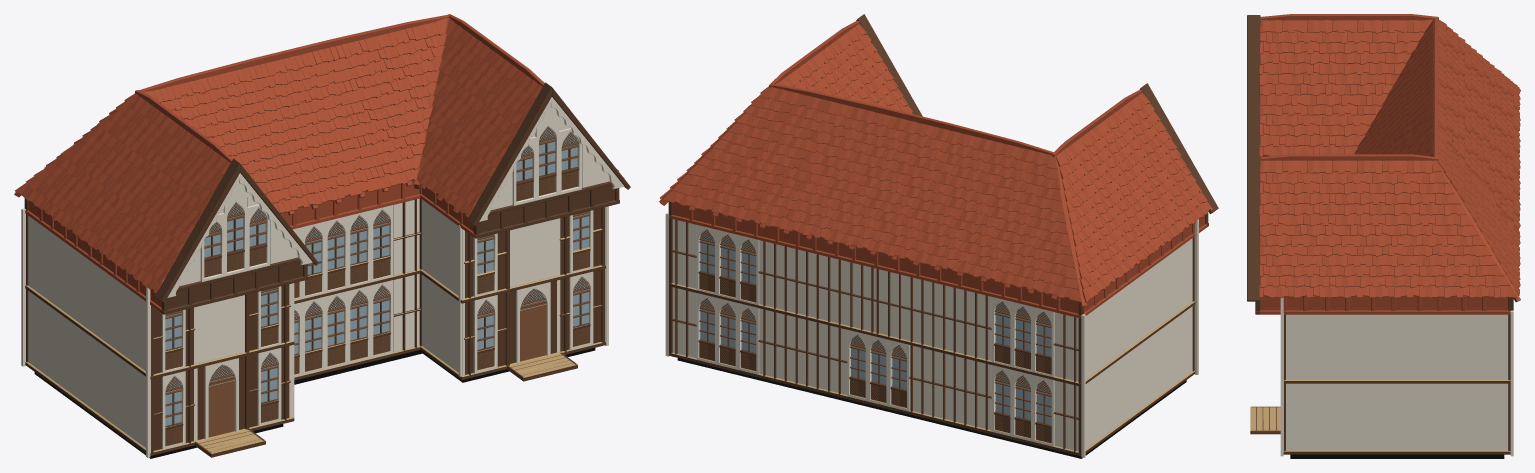
The model's file is house.glb.
The picture shows the model from 3 angles, left to right: view 1: azimuth 30°, elevation 25°; view 2: azimuth 150°, elevation 25°; view 3: azimuth 270°, elevation 25°; orthographic projection. The views are drawn at different scales.
Parts seen in each view (by area): view 1: ROOF_01, WALL_01, TRIM_01, WINDOW_01, GLASS_windows, WALL_gapfill, WALK_floors, CORE_black, DOOR_entrance, DOOR_entrance_east; view 2: ROOF_01, WALL_01, TRIM_01, WINDOW_01, GLASS_windows, WALK_floors, WALL_gapfill, CORE_black; view 3: ROOF_01, WALL_01, TRIM_01, WALK_floors, WALL_gapfill, CORE_black.
Boxes of the visible parts, <box> form: ROOF_01: <box>14,14,624,312</box>; WALL_01: <box>28,97,624,449</box>; TRIM_01: <box>24,82,630,457</box>; WINDOW_01: <box>165,127,589,456</box>; GLASS_windows: <box>165,126,593,442</box>; WALL_gapfill: <box>21,206,608,457</box>; WALK_floors: <box>25,204,605,453</box>; CORE_black: <box>34,348,595,458</box>; DOOR_entrance: <box>208,378,234,437</box>; DOOR_entrance_east: <box>520,302,546,361</box>; ROOF_01: <box>659,21,1212,318</box>; WALL_01: <box>672,219,1192,451</box>; TRIM_01: <box>668,14,1218,456</box>; WINDOW_01: <box>699,229,1051,443</box>; GLASS_windows: <box>696,72,1174,430</box>; WALK_floors: <box>671,283,1194,452</box>; WALL_gapfill: <box>665,212,1198,457</box>; CORE_black: <box>677,358,1186,458</box>; ROOF_01: <box>1259,14,1520,314</box>; WALL_01: <box>1286,314,1508,450</box>; TRIM_01: <box>1247,15,1513,454</box>; WALK_floors: <box>1250,379,1510,451</box>; WALL_gapfill: <box>1280,297,1513,456</box>; CORE_black: <box>1290,454,1504,458</box>.
Bounding box in the file's own units: 19.71 × 11.9 × 10.75.
